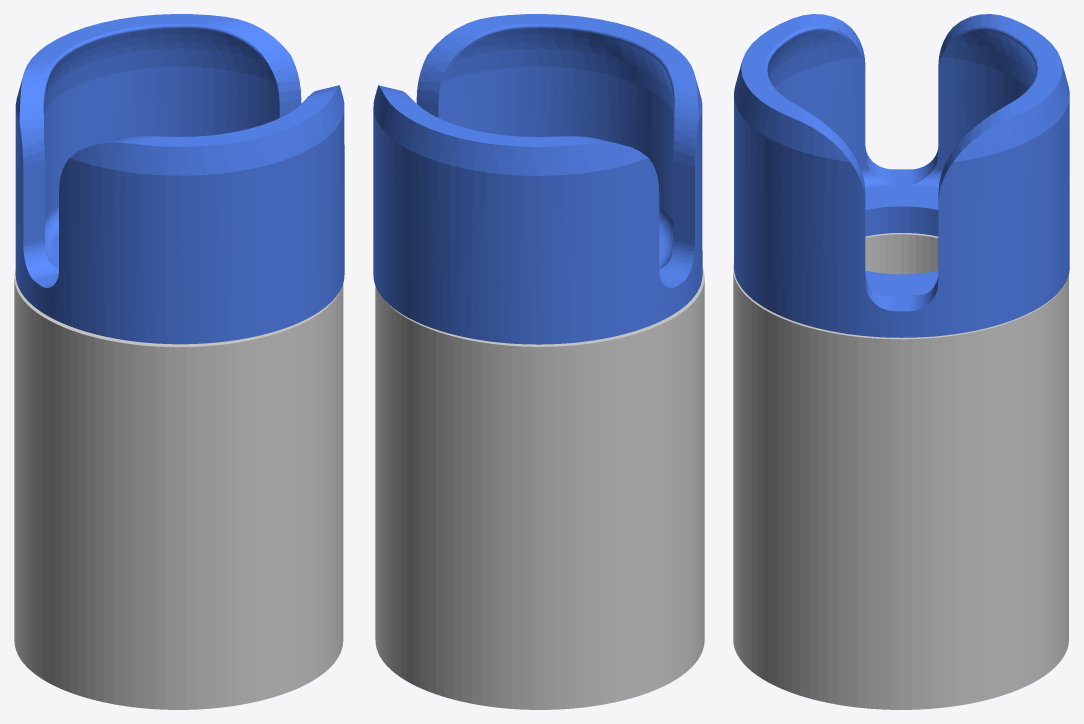
The model's file is pivot.dae.
3 renders of one model, left to right at view 1: azimuth 30°, elevation 25°; view 2: azimuth 150°, elevation 25°; view 3: azimuth 270°, elevation 25°, orthographic. The views are drawn at different scales.
Visible parts, largest first — view 1: Part 1, Support bille; view 2: Part 1, Support bille; view 3: Part 1, Support bille.
Boxes of the visible parts, box(x1,y1,x2,y2) form: Part 1: box(14, 270, 343, 709); Support bille: box(15, 14, 344, 344); Part 1: box(375, 267, 704, 709); Support bille: box(373, 14, 702, 344); Part 1: box(733, 233, 1068, 709); Support bille: box(734, 14, 1069, 337).
Bounding box in the file's own units: 0.0231 × 0.023 × 0.0432.
